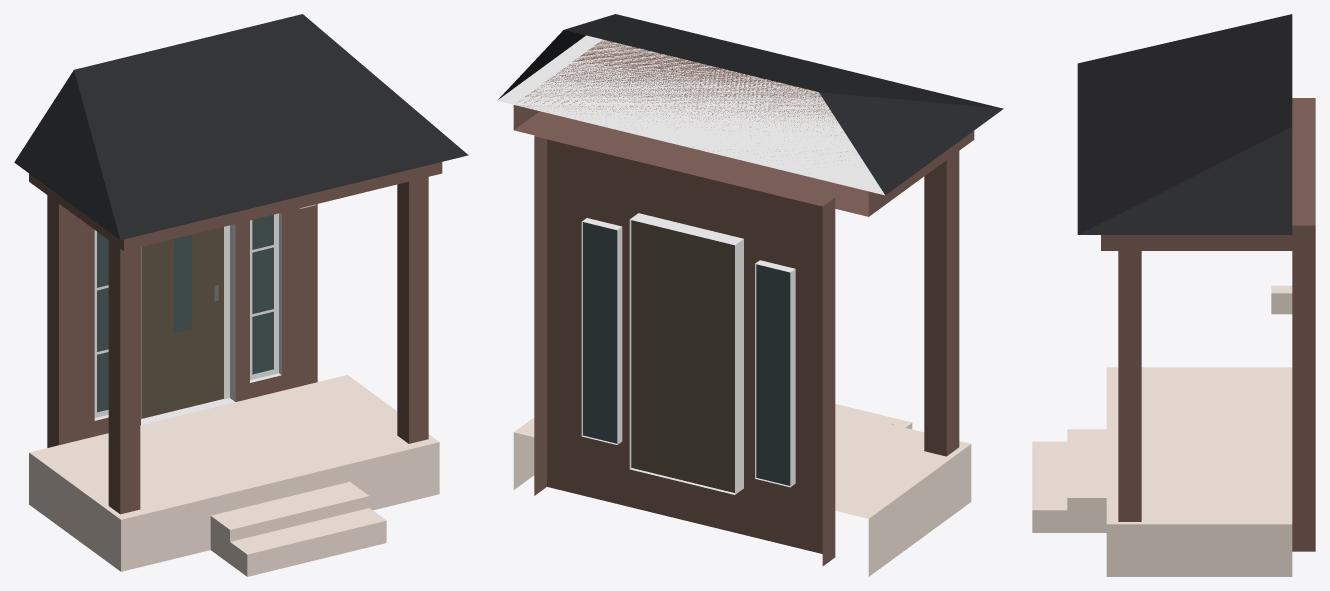
The model's file is entrance.fbx.
3 renders of one model, left to right at view 1: azimuth 30°, elevation 25°; view 2: azimuth 150°, elevation 25°; view 3: azimuth 270°, elevation 25°, orthographic. The views are drawn at different scales.
Parts seen in each view (by area): view 1: a2000s2/800/entrance; view 2: a2000s2/800/entrance; view 3: a2000s2/800/entrance.
Boxes of the visible parts, <box> form: a2000s2/800/entrance: <box>14,14,468,576</box>; a2000s2/800/entrance: <box>497,14,1003,576</box>; a2000s2/800/entrance: <box>1032,14,1315,576</box>.
Bounding box in the file's own units: 3.5 × 4.07 × 2.44.
